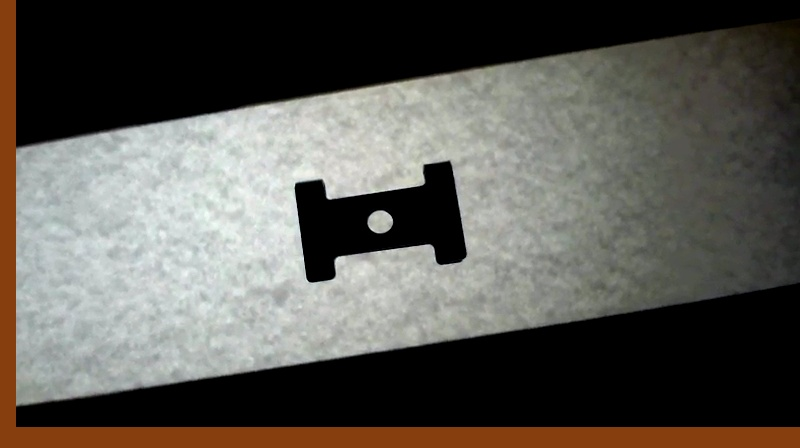O002: (290, 159, 468, 284)
